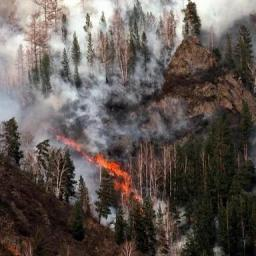Heavy smoke: (0, 0, 214, 250)
Small fire: (39, 126, 148, 204)
